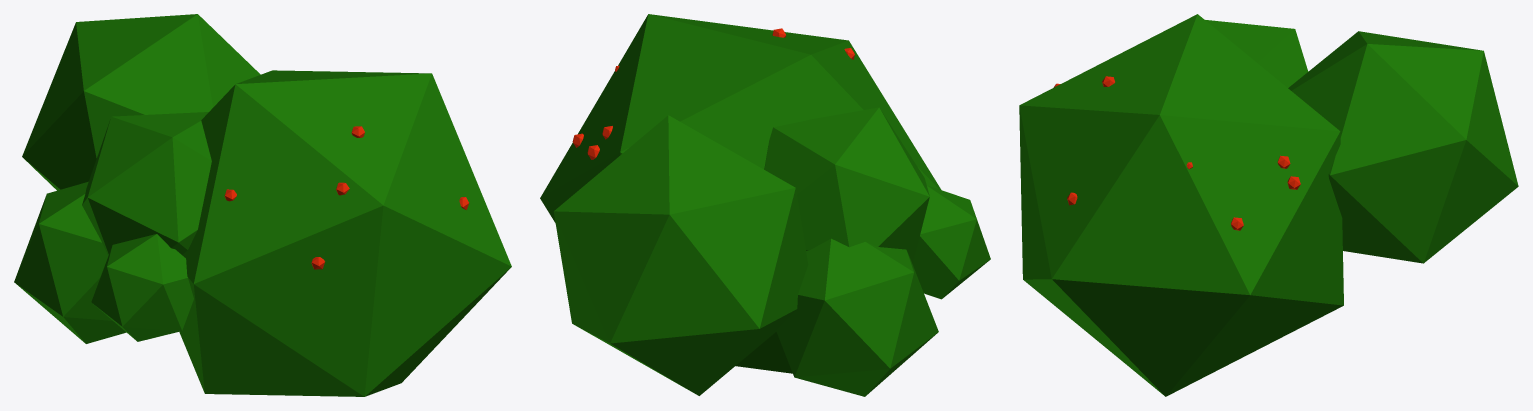
The picture shows the model from 3 angles, left to right: view 1: azimuth 30°, elevation 25°; view 2: azimuth 150°, elevation 25°; view 3: azimuth 270°, elevation 25°; orthographic projection. The views are drawn at different scales.
Parts seen in each view (by area): view 1: Icosphere, Icosphere.001, Icosphere.004, Icosphere.002, Icosphere.003; view 2: Icosphere.001, Icosphere, Icosphere.002, Icosphere.004, Icosphere.003; view 3: Icosphere, Icosphere.001, Icosphere.004.
Part boxes in pixels (<box>): Icosphere: <box>179,70,511,396</box>; Icosphere.001: <box>22,14,260,190</box>; Icosphere.004: <box>82,112,211,255</box>; Icosphere.002: <box>14,181,126,343</box>; Icosphere.003: <box>91,234,193,341</box>; Icosphere.001: <box>553,115,808,395</box>; Icosphere: <box>540,14,941,373</box>; Icosphere.002: <box>776,238,938,396</box>; Icosphere.004: <box>764,107,929,263</box>; Icosphere.003: <box>912,185,990,299</box>; Icosphere: <box>1019,14,1343,396</box>; Icosphere.001: <box>1288,31,1518,263</box>; Icosphere.004: <box>1205,20,1308,87</box>.
Size of the model in its own units: 389 by 313 by 453.
